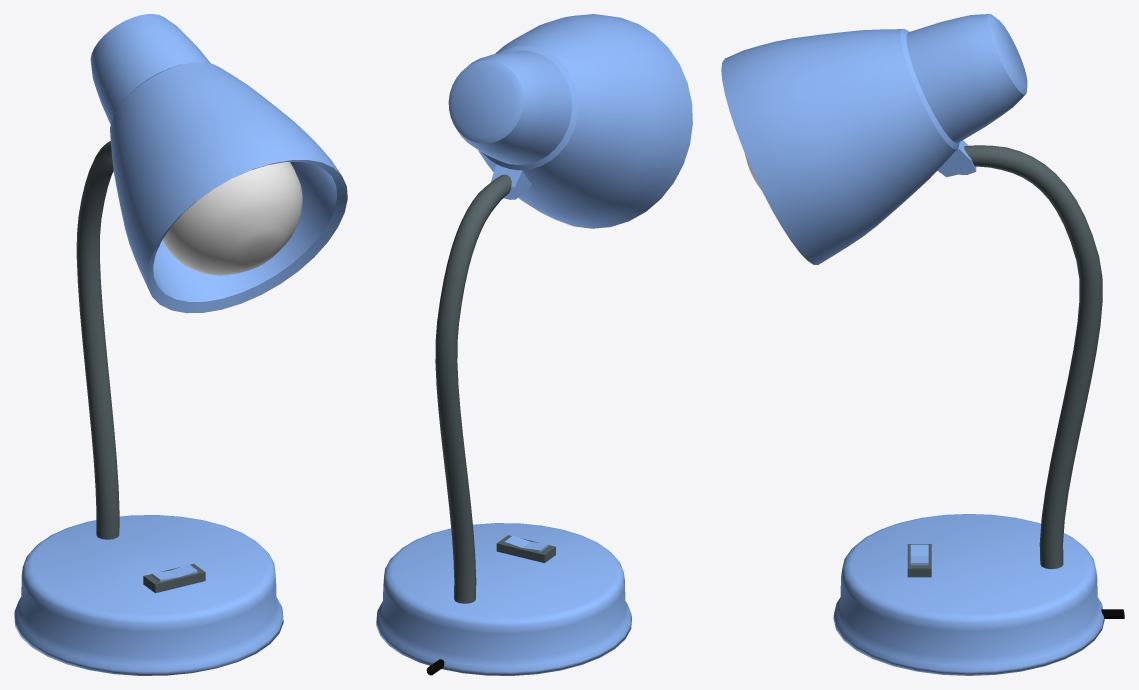
The model's file is Lamp.fbx.
The picture shows the model from 3 angles, left to right: view 1: azimuth 30°, elevation 25°; view 2: azimuth 150°, elevation 25°; view 3: azimuth 270°, elevation 25°; orthographic projection. The views are drawn at different scales.
Parts seen in each view (by area): view 1: Plane, Circle.001, Circle; view 2: Plane, Circle.001; view 3: Circle.001, Plane.
Boxes of the visible parts, box(x1,y1,x2,y2) form: Plane: box(14, 141, 283, 675); Circle.001: box(90, 14, 347, 313); Circle: box(162, 162, 302, 275); Plane: box(376, 174, 631, 675); Circle.001: box(448, 14, 692, 228); Circle.001: box(721, 14, 1027, 264); Plane: box(833, 145, 1104, 675).
Bounding box in the file's own units: 280 × 682 × 416.
